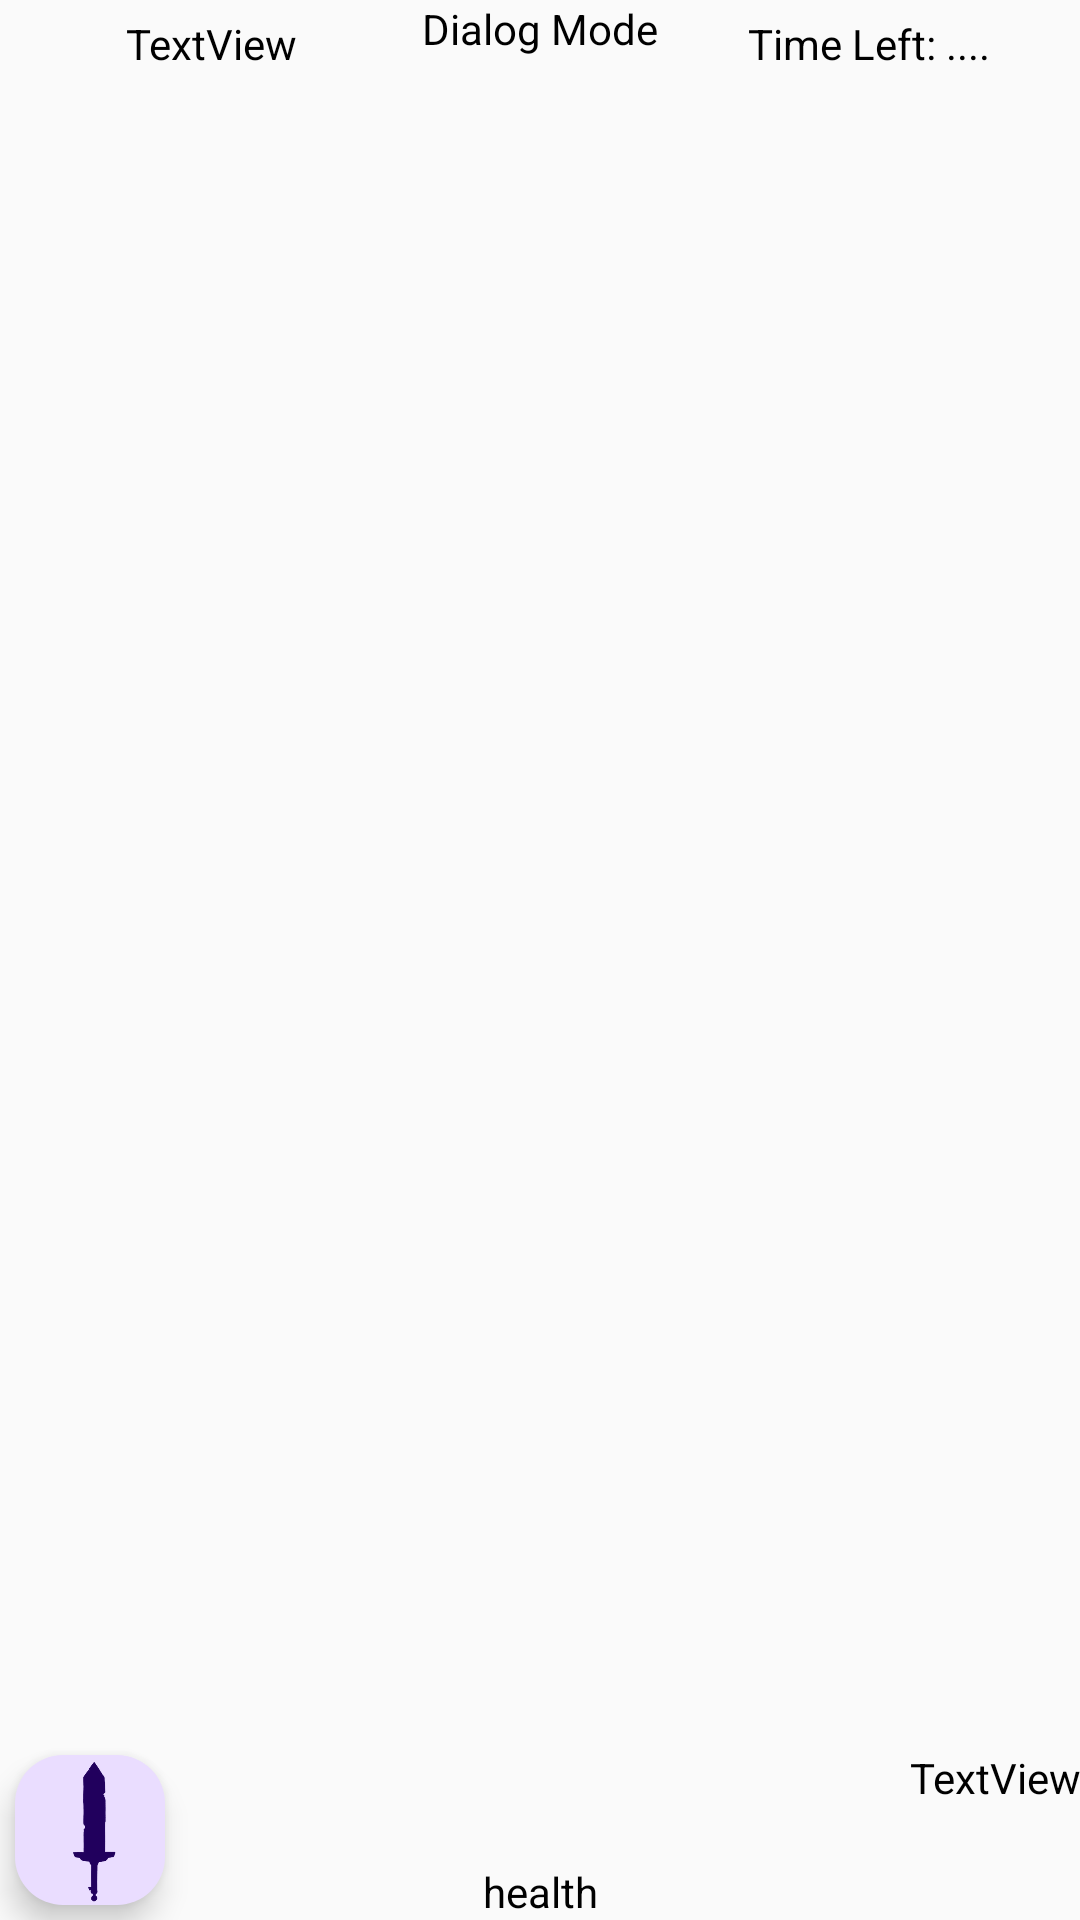

Icon bounding boxes for this 1080w x 1920h phone screenshot, format box=[x1, y1, x2, y2]:
sword: box=[15, 1755, 165, 1905]
